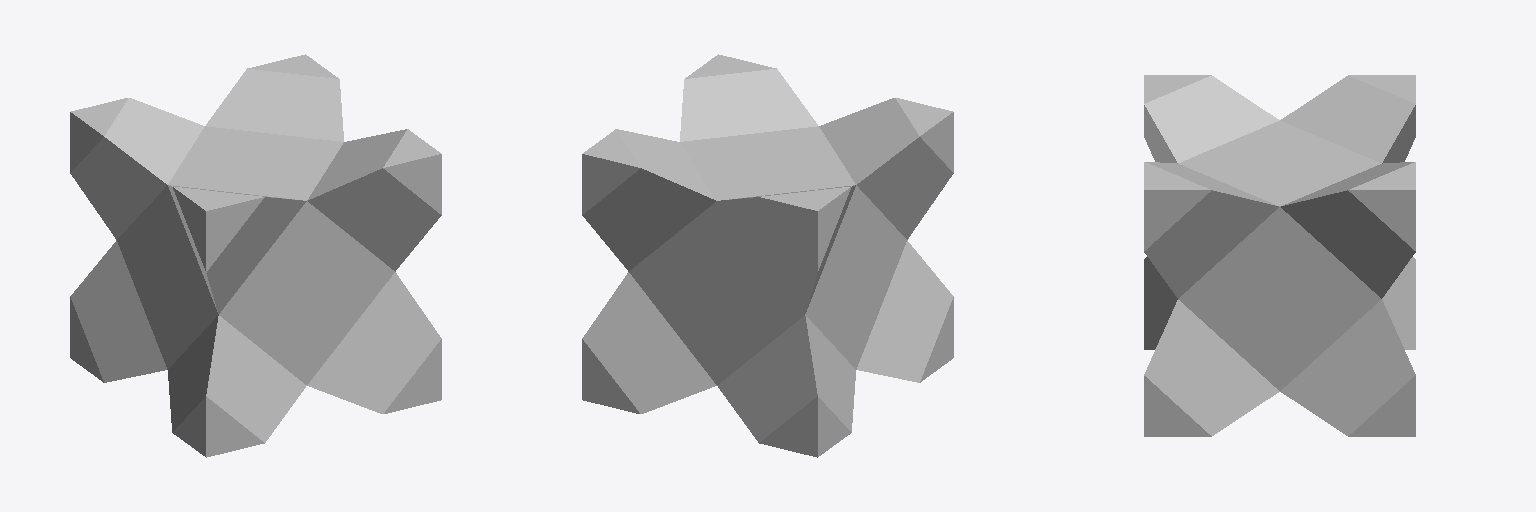
File: haxe.obj
3 renders of one model, left to right at view 1: azimuth 30°, elevation 25°; view 2: azimuth 150°, elevation 25°; view 3: azimuth 270°, elevation 25°, orthographic.
Visible parts, largest first — view 1: Center, X-BR, X+TL, X-TL, X+BL, X-TR, X-BL, X+TR; view 2: Center, X-BL, X+TR, X-TR, X+BR, X-TL, X-BR, X+TL; view 3: Center, X+BL, X+BR, X+TL, X+TR, X-TL, X-TR, X-BL, X-BR.
Boxes of the visible parts, <box> form: Center: <box>117,126,394,384</box>; X-BR: <box>168,315,306,457</box>; X+TL: <box>307,129,441,271</box>; X-TL: <box>70,98,204,239</box>; X+BL: <box>307,272,441,413</box>; X-TR: <box>168,185,306,313</box>; X-BL: <box>70,240,166,382</box>; X+TR: <box>206,54,343,141</box>; Center: <box>629,126,906,384</box>; X-BL: <box>717,315,855,457</box>; X+TR: <box>582,129,716,271</box>; X-TR: <box>819,98,953,239</box>; X+BR: <box>582,272,716,413</box>; X-TL: <box>717,185,855,313</box>; X-BR: <box>857,240,953,382</box>; X+TL: <box>680,54,817,141</box>; Center: <box>1178,121,1381,390</box>; X+BL: <box>1144,300,1279,436</box>; X+BR: <box>1280,300,1415,436</box>; X+TL: <box>1144,162,1279,298</box>; X+TR: <box>1280,162,1415,298</box>; X-TL: <box>1280,75,1415,163</box>; X-TR: <box>1144,75,1279,163</box>; X-BL: <box>1382,257,1415,349</box>; X-BR: <box>1144,257,1177,349</box>.
Bounding box in the file's own units: 1 × 1 × 1.